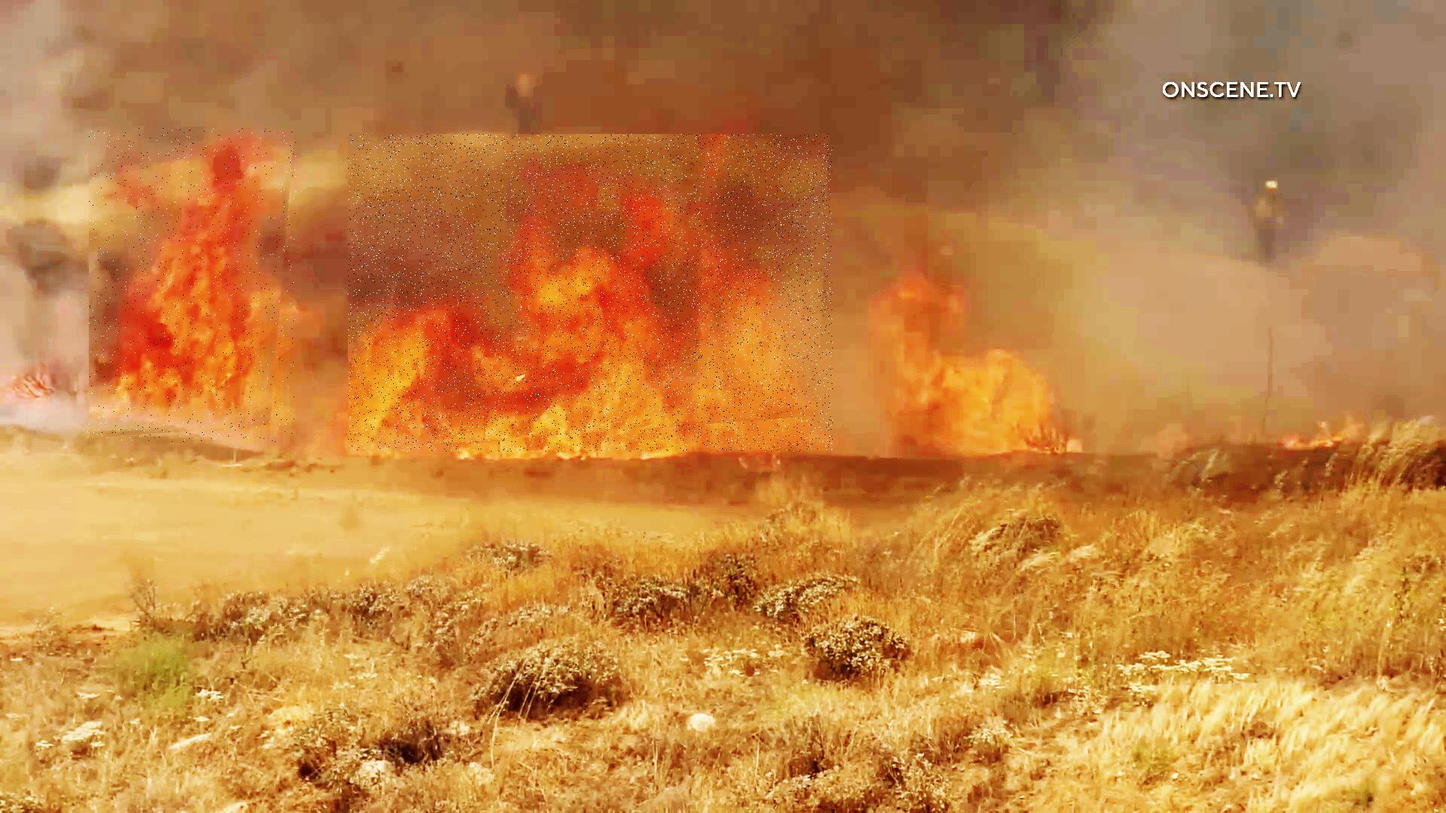fire: (349, 134, 834, 452), (89, 129, 296, 443)
